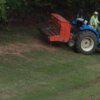Tractor: (38, 7, 100, 57)
